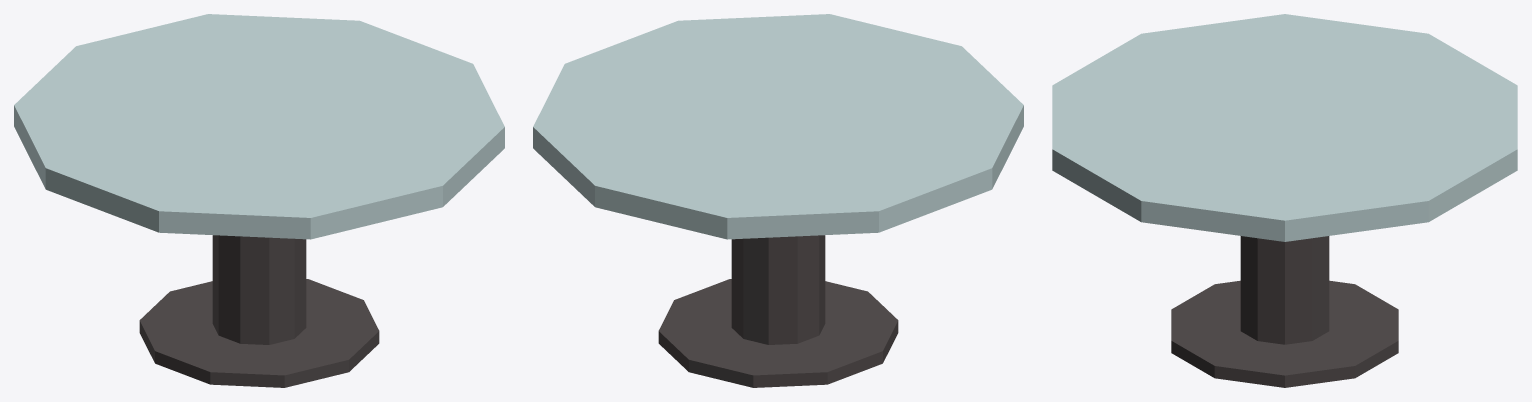
Rendered from Mesa Redonda.fbx.
3 renders of one model, left to right at view 1: azimuth 30°, elevation 25°; view 2: azimuth 150°, elevation 25°; view 3: azimuth 270°, elevation 25°, orthographic.
Parts seen in each view (by area): view 1: pasted__pasted__pCylinder1, pasted__pasted__pCylinder2; view 2: pasted__pasted__pCylinder1, pasted__pasted__pCylinder2; view 3: pasted__pasted__pCylinder1, pasted__pasted__pCylinder2.
Part boxes in pixels (left/top/right/bottom): pasted__pasted__pCylinder1: left=14, top=14, right=504, bottom=239; pasted__pasted__pCylinder2: left=139, top=235, right=379, bottom=387; pasted__pasted__pCylinder1: left=533, top=14, right=1023, bottom=239; pasted__pasted__pCylinder2: left=658, top=235, right=898, bottom=387; pasted__pasted__pCylinder1: left=1052, top=14, right=1517, bottom=241; pasted__pasted__pCylinder2: left=1171, top=236, right=1398, bottom=387.
Bounding box in the file's own units: 2.65 × 1.32 × 2.52.
